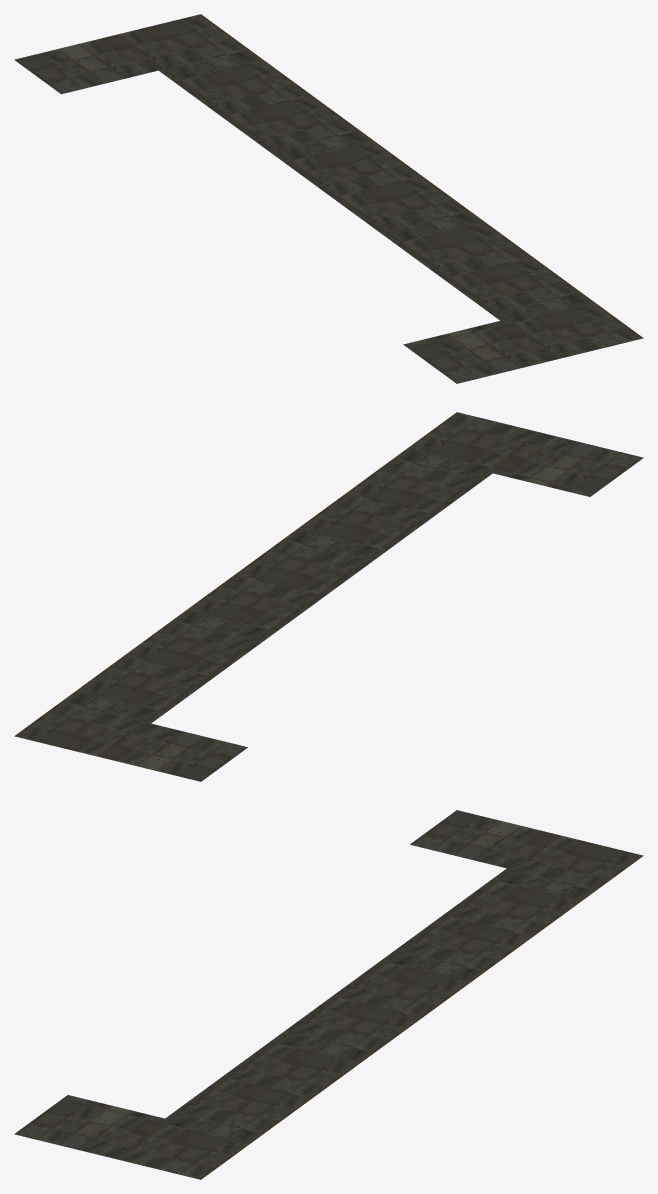
File: RoofMidB.fbx
The picture shows the model from 3 angles, top to bottom: view 1: azimuth 30°, elevation 25°; view 2: azimuth 150°, elevation 25°; view 3: azimuth 330°, elevation 25°; orthographic projection.
Visible parts, largest first — view 1: RoofMidB; view 2: RoofMidB; view 3: RoofMidB.
Part boxes in pixels (x1=…): RoofMidB: x1=14, y1=14, x2=643, y2=383; RoofMidB: x1=14, y1=412, x2=643, y2=781; RoofMidB: x1=14, y1=810, x2=643, y2=1179.
Bounding box in the file's own units: 719 × 0 × 2948.
